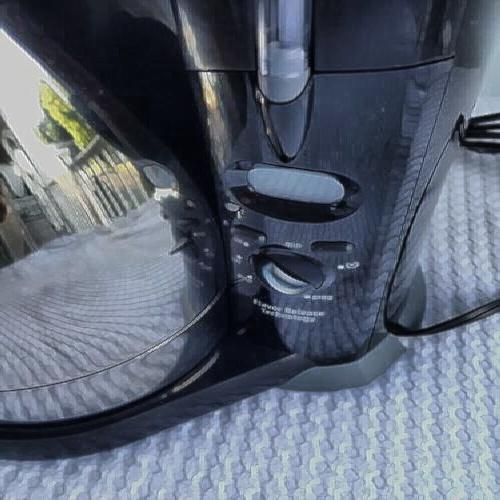coffee_maker: (57, 9, 478, 424)
